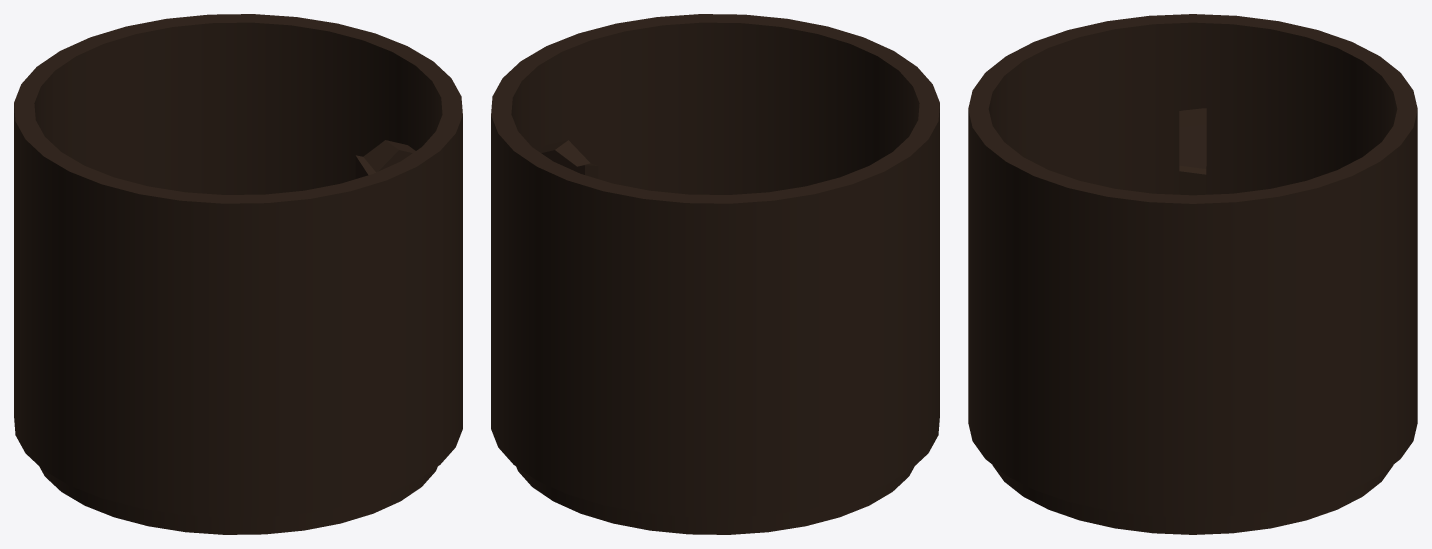
Rendered from SM_ENV.fbx.
The picture shows the model from 3 angles, left to right: view 1: azimuth 30°, elevation 25°; view 2: azimuth 150°, elevation 25°; view 3: azimuth 270°, elevation 25°; orthographic projection.
Visible parts, largest first — view 1: SM_ENV_Wall, SM_ENV_Platform, SM_ENV_WallObstacle2; view 2: SM_ENV_Wall, SM_ENV_Platform, SM_ENV_WallObstacle2; view 3: SM_ENV_Wall, SM_ENV_Platform, SM_ENV_WallObstacle1.
Boxes of the visible parts, box(x1,y1,x2,y2) form: SM_ENV_Wall: box(14, 14, 462, 517); SM_ENV_Platform: box(39, 466, 437, 534); SM_ENV_WallObstacle2: box(355, 140, 415, 178); SM_ENV_Wall: box(491, 14, 939, 517); SM_ENV_Platform: box(516, 466, 914, 534); SM_ENV_WallObstacle2: box(538, 140, 598, 178); SM_ENV_Wall: box(968, 14, 1417, 517); SM_ENV_Platform: box(992, 465, 1393, 534); SM_ENV_WallObstacle1: box(1179, 108, 1206, 195).
Bounding box in the file's own units: 110 × 91.7 × 110.
